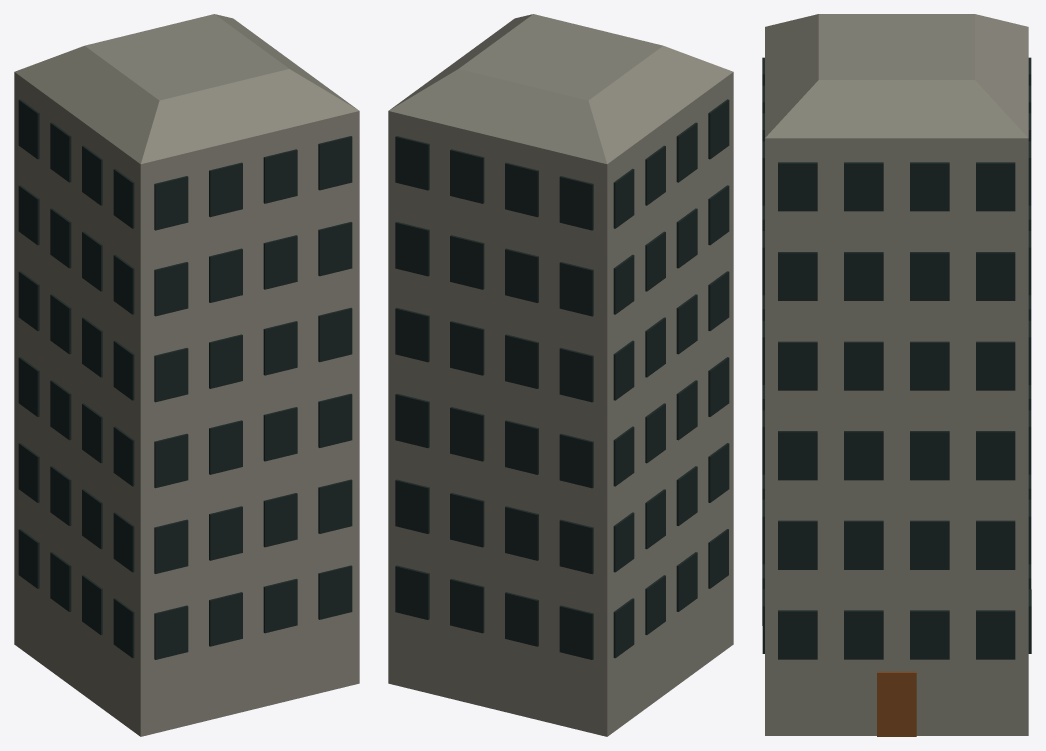
The model's file is building.glb.
The picture shows the model from 3 angles, left to right: view 1: azimuth 30°, elevation 25°; view 2: azimuth 150°, elevation 25°; view 3: azimuth 270°, elevation 25°; orthographic projection. The views are drawn at different scales.
Visible parts, largest first — view 1: Building, Cube.033, Cube.030, Cube.036, Cube.041, Cube.042, Cube.048, Cube.028, Cube.038, Cube.044, Cube.025, Cube.029 (+37 smaller); view 2: Building, Cube.069, Cube.057, Cube.054, Cube.060, Cube.061, Cube.065, Cube.068, Cube.049, Cube.050, Cube.053, Cube.056 (+37 smaller); view 3: Building, Cube.097, Cube.001, Cube.002, Cube.003, Cube.009, Cube.010, Cube.011, Cube.013, Cube.014, Cube.015, Cube.017 (+14 smaller).
Boxes of the visible parts, <box> form: Building: <box>14,14,359,736</box>; Cube.033: <box>318,307,352,362</box>; Cube.030: <box>263,235,297,289</box>; Cube.036: <box>154,348,188,402</box>; Cube.041: <box>318,479,352,533</box>; Cube.042: <box>263,493,297,547</box>; Cube.048: <box>154,605,188,659</box>; Cube.028: <box>154,176,188,230</box>; Cube.038: <box>263,407,297,461</box>; Cube.044: <box>154,519,188,573</box>; Cube.025: <box>318,136,352,190</box>; Cube.029: <box>318,222,352,276</box>; Building: <box>388,14,733,736</box>; Cube.069: <box>395,565,429,619</box>; Cube.057: <box>395,307,429,362</box>; Cube.054: <box>450,235,484,289</box>; Cube.060: <box>559,348,593,402</box>; Cube.061: <box>395,393,429,447</box>; Cube.065: <box>395,479,429,533</box>; Cube.068: <box>559,519,593,574</box>; Cube.049: <box>395,136,429,190</box>; Cube.050: <box>450,149,484,203</box>; Cube.053: <box>395,222,429,276</box>; Cube.056: <box>559,262,593,316</box>; Building: <box>765,14,1028,735</box>; Cube.097: <box>877,671,916,736</box>; Cube.001: <box>778,162,817,211</box>; Cube.002: <box>844,162,883,211</box>; Cube.003: <box>910,162,949,211</box>; Cube.009: <box>778,341,817,390</box>; Cube.010: <box>844,341,883,390</box>; Cube.011: <box>910,341,949,390</box>; Cube.013: <box>778,431,817,480</box>; Cube.014: <box>844,431,883,480</box>; Cube.015: <box>910,431,949,480</box>; Cube.017: <box>778,520,817,569</box>.
Bounding box in the file's own units: 40.85 × 106 × 40.81.
Materials: 3 (1 with a texture image).
